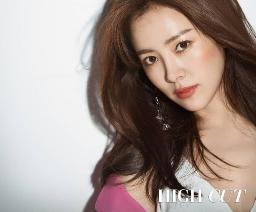face: (136, 12, 224, 110)
